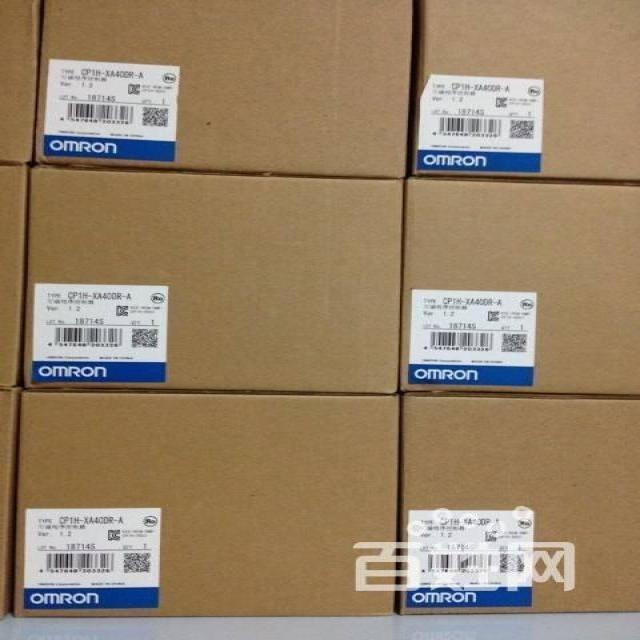box: (12, 386, 407, 624), (20, 164, 408, 399), (40, 0, 422, 185), (395, 385, 640, 625), (392, 174, 640, 398), (410, 1, 640, 182)
